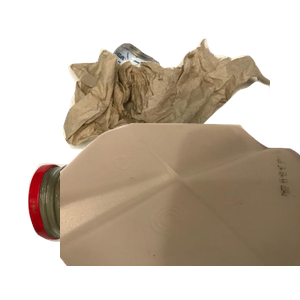glass: (25, 155, 227, 300)
metal: (81, 41, 234, 178)
plastic: (60, 120, 300, 300)
trash: (60, 36, 300, 198)
